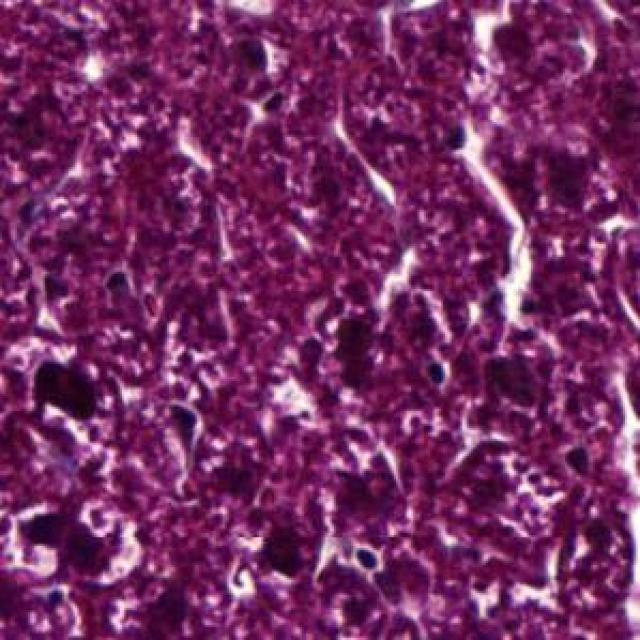inflammation: (5, 494, 144, 582), (300, 278, 396, 388), (316, 434, 404, 546), (23, 344, 112, 450), (471, 11, 533, 62)
